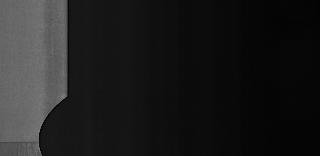welding line: (1, 138, 49, 148)
